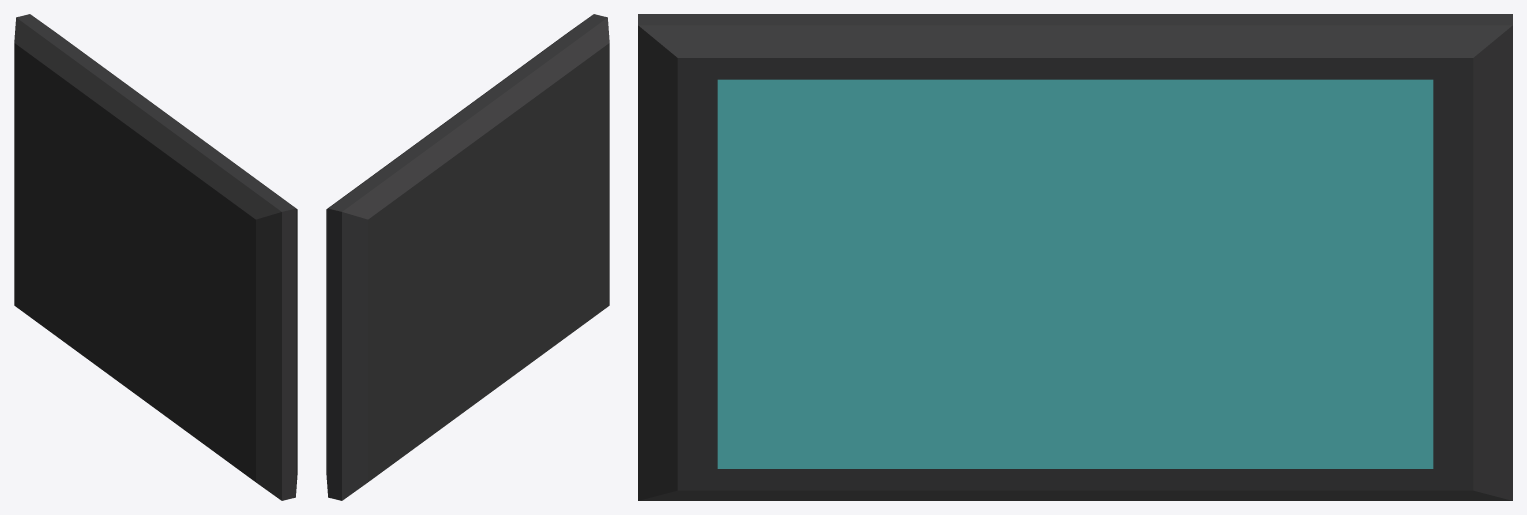
Rendered from Digital Screen.fbx.
3 views of the same model, side by side, from view 1: azimuth 30°, elevation 25°; view 2: azimuth 150°, elevation 25°; view 3: azimuth 270°, elevation 25° (orthographic). The views are drawn at different scales.
Parts seen in each view (by area): view 1: Digital Screen; view 2: Digital Screen; view 3: Digital Screen.
Part boxes in pixels (x1,y1,x2,y2): Digital Screen: [14, 14, 297, 500]; Digital Screen: [326, 14, 609, 500]; Digital Screen: [638, 14, 1512, 500].
Size of the model in its own units: 180 by 1188 by 1980.
